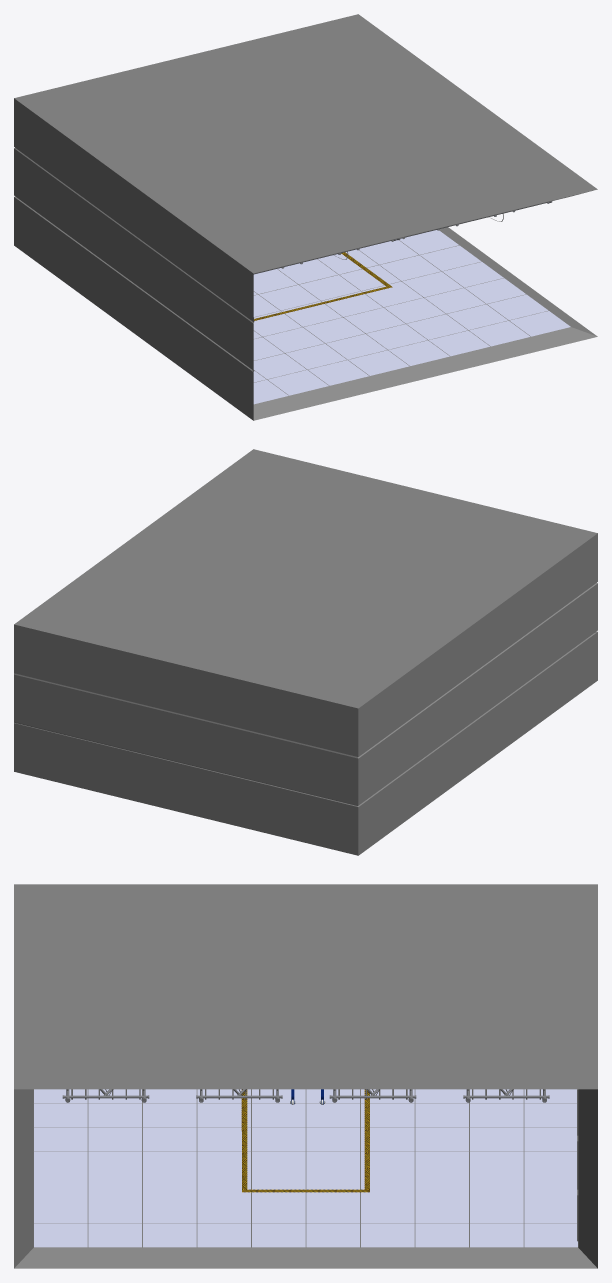
The model's file is garage.glb.
The picture shows the model from 3 angles, top to bottom: view 1: azimuth 30°, elevation 25°; view 2: azimuth 150°, elevation 25°; view 3: azimuth 270°, elevation 25°; orthographic projection. The views are drawn at different scales.
Parts seen in each view (by area): view 1: Object_17, Object_20, Object_28; view 2: Object_17; view 3: Object_17, Object_20, Object_22, Object_28.
Boxes of the visible parts, box(x1,y1,x2,y2) form: Object_17: box(14, 14, 597, 420); Object_20: box(253, 230, 570, 404); Object_28: box(254, 252, 392, 320); Object_17: box(14, 449, 597, 855); Object_17: box(14, 884, 597, 1268); Object_20: box(34, 1089, 577, 1247); Object_22: box(62, 1089, 549, 1102); Object_28: box(241, 1089, 369, 1192).
Bounding box in the file's own units: 7.53 × 3.08 × 9.07.
Materials: 16 (2 with a texture image).
